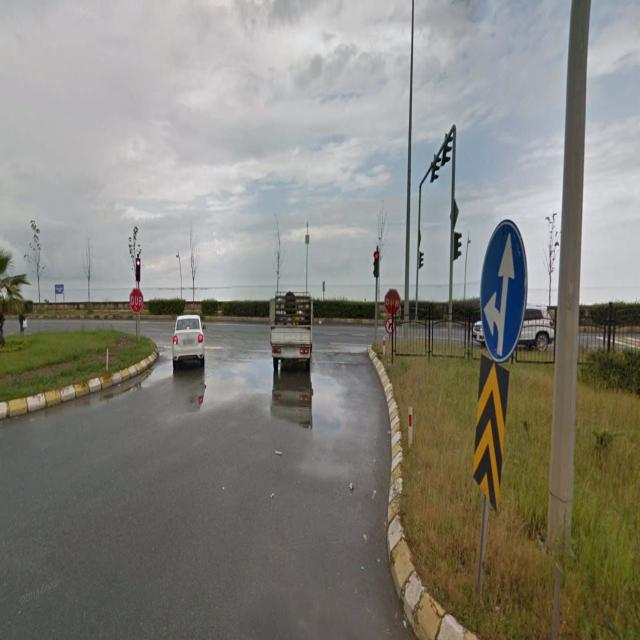dur: (384, 289, 401, 316), (129, 289, 144, 313)
ilerisol: (481, 219, 525, 361)
kirmizi: (373, 250, 378, 278), (136, 257, 141, 282)
